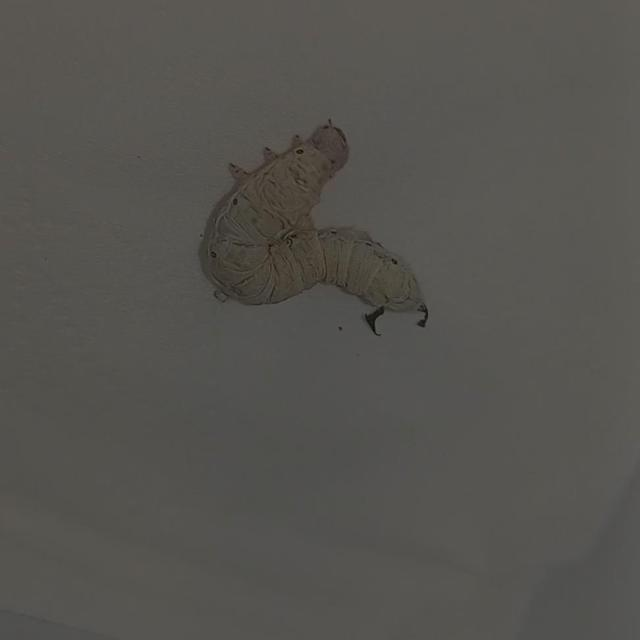Healthy: (192, 109, 434, 344)
